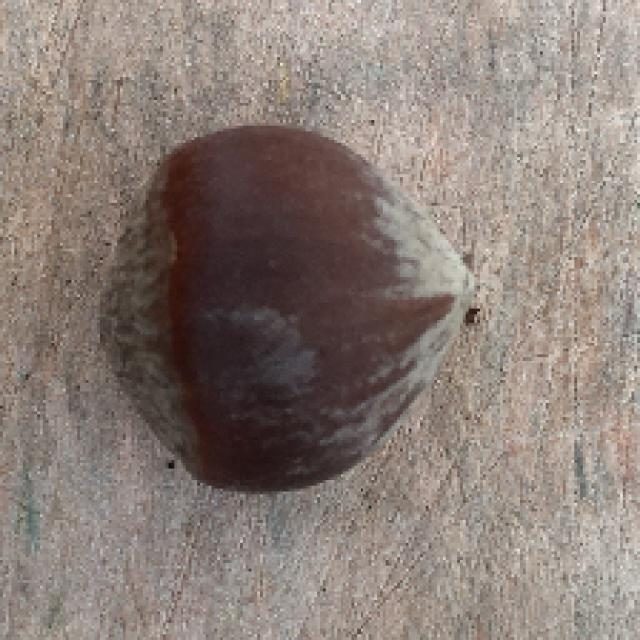damagedHazelnut: (101, 123, 487, 503)
